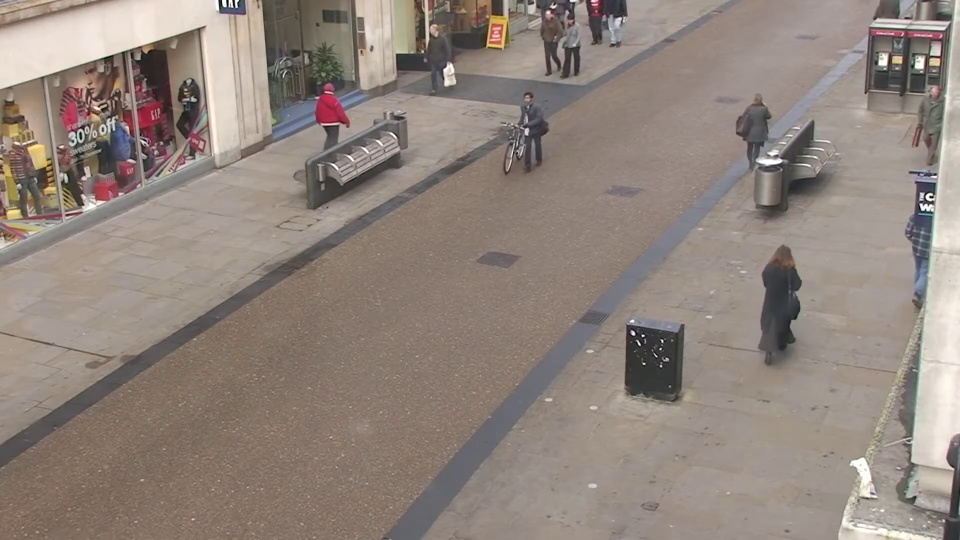pedestrian: (760, 230, 806, 357), (907, 82, 952, 174), (740, 88, 772, 177), (510, 90, 540, 179), (319, 79, 350, 163), (417, 23, 442, 92), (555, 12, 579, 79), (536, 8, 559, 74)
